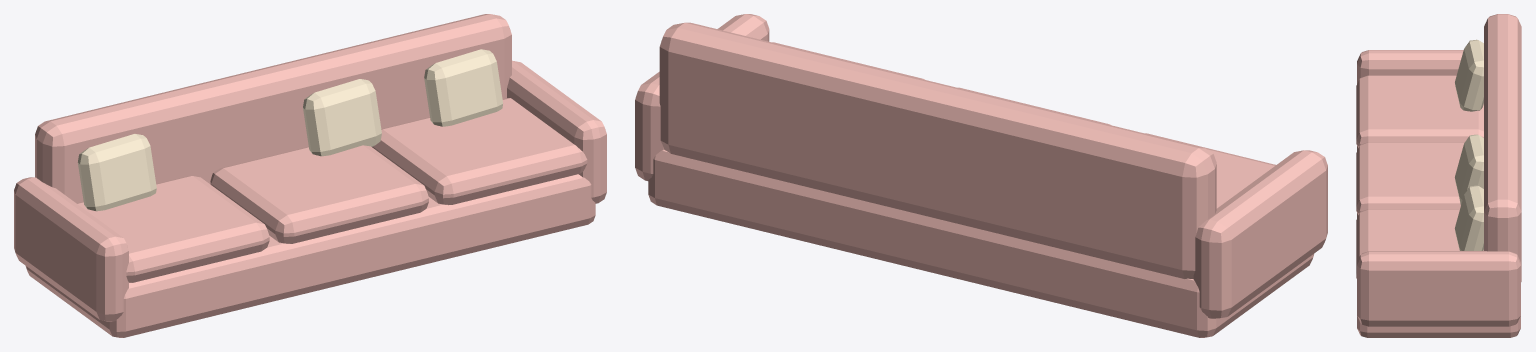
Rendered from sofa_lounge.glb.
3 views of the same model, side by side, from view 1: azimuth 30°, elevation 25°; view 2: azimuth 150°, elevation 25°; view 3: azimuth 270°, elevation 25° (orthographic). The views are drawn at different scales.
Parts seen in each view (by area): view 1: sofa_lounge; view 2: sofa_lounge; view 3: sofa_lounge.
Part boxes in pixels (x1=…): sofa_lounge: x1=14, y1=14, x2=606, y2=337; sofa_lounge: x1=635, y1=14, x2=1327, y2=337; sofa_lounge: x1=1356, y1=14, x2=1521, y2=337.
Bounding box in the file's own units: 2.94 × 0.85 × 0.96.
